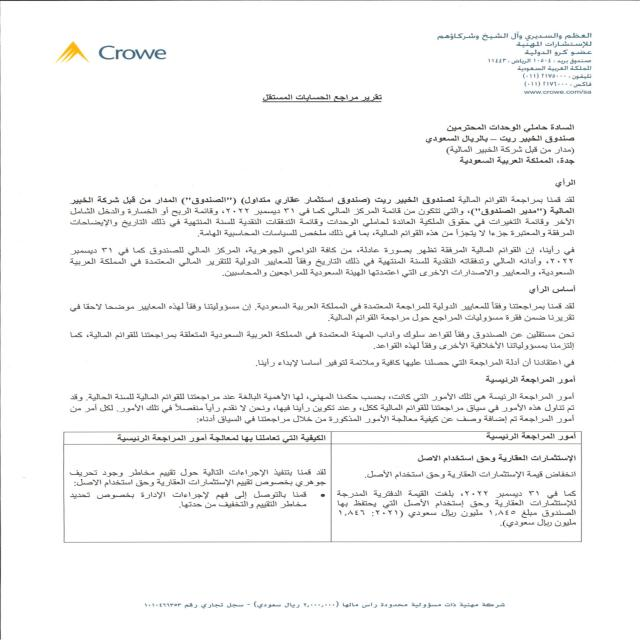auditor_report: (250, 90, 392, 111)
